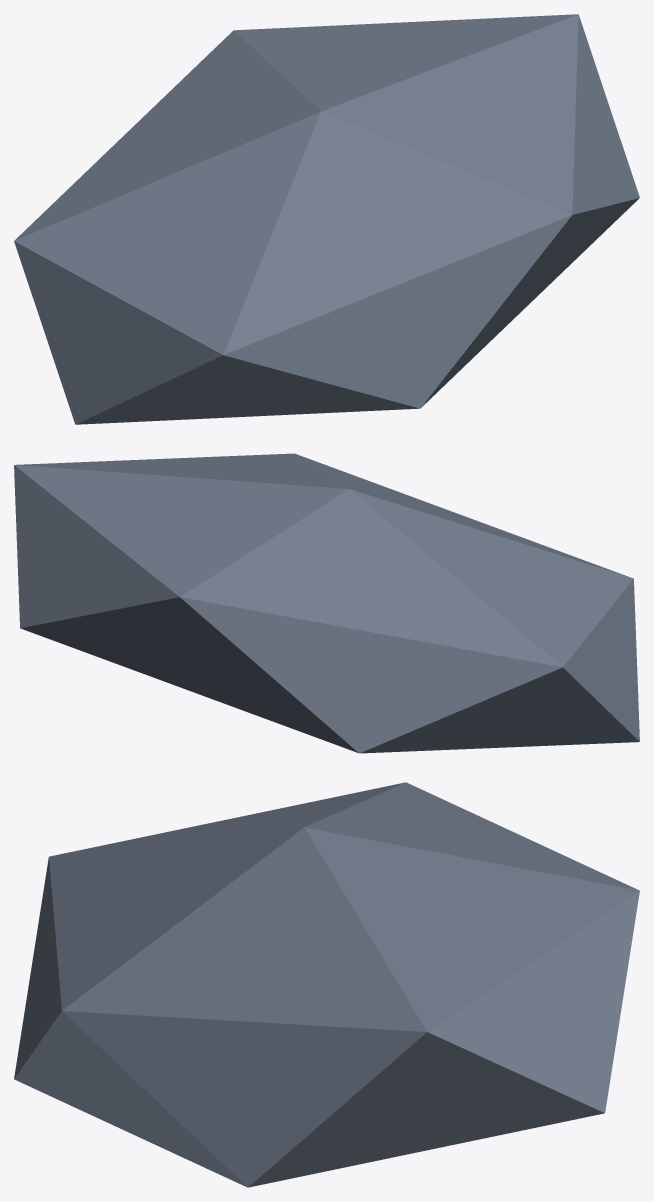
File: EXTG_NorthLooseStone_03.glb
3 renders of one model, top to bottom at view 1: azimuth 30°, elevation 25°; view 2: azimuth 150°, elevation 25°; view 3: azimuth 270°, elevation 25°, orthographic. The views are drawn at different scales.
Visible parts, largest first — view 1: EXTG_NorthLooseStone_03; view 2: EXTG_NorthLooseStone_03; view 3: EXTG_NorthLooseStone_03.
Part boxes in pixels (x1,y1,x2,y2): EXTG_NorthLooseStone_03: (14, 14, 639, 424); EXTG_NorthLooseStone_03: (14, 453, 639, 753); EXTG_NorthLooseStone_03: (14, 782, 639, 1187).
Size of the model in its own units: 0.87 by 0.3371 by 0.6439.
